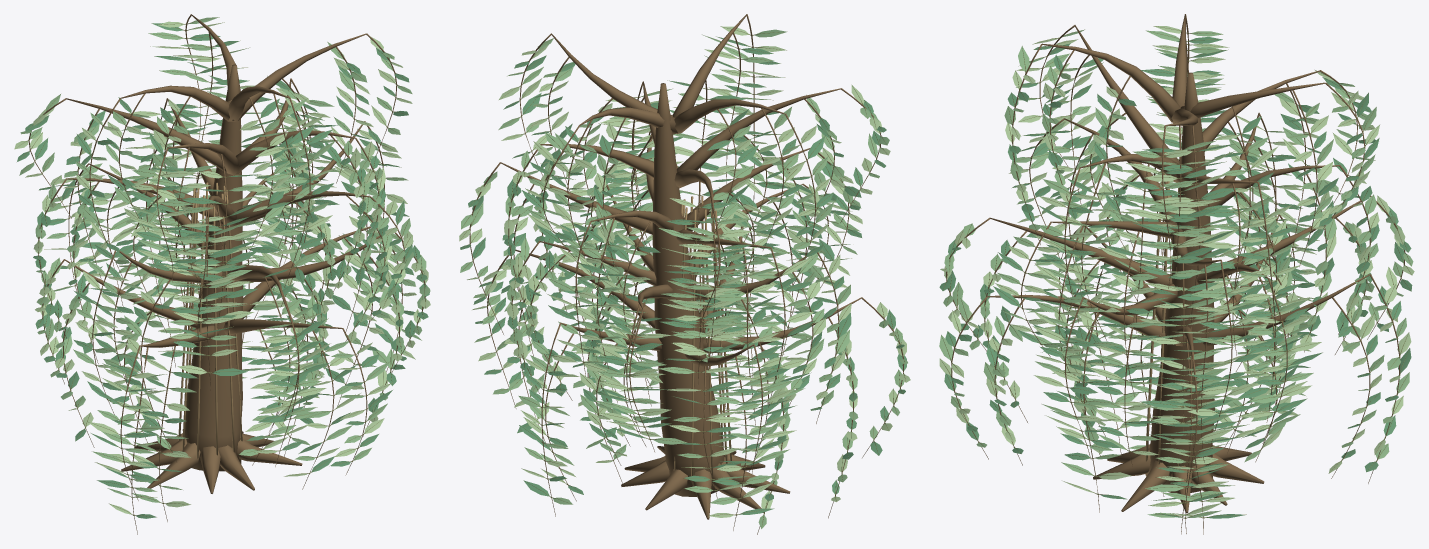
File: willow.glb
3 views of the same model, side by side, from view 1: azimuth 30°, elevation 25°; view 2: azimuth 150°, elevation 25°; view 3: azimuth 270°, elevation 25° (orthographic). The views are drawn at different scales.
Parts seen in each view (by area): view 1: Willow trunk branches and hanging twigs, Willow leaves 1, Willow leaves 2, Willow leaves 3, Willow petioles, Willow raised bark; view 2: Willow trunk branches and hanging twigs, Willow leaves 2, Willow leaves 3, Willow leaves 1, Willow petioles, Willow raised bark; view 3: Willow trunk branches and hanging twigs, Willow leaves 3, Willow leaves 2, Willow leaves 1, Willow petioles, Willow raised bark.
Part boxes in pixels (x1=…): Willow trunk branches and hanging twigs: x1=28, y1=14, x2=425, y2=534; Willow leaves 1: x1=17, y1=23, x2=429, y2=518; Willow leaves 2: x1=19, y1=17, x2=430, y2=502; Willow leaves 3: x1=14, y1=21, x2=430, y2=514; Willow petioles: x1=15, y1=17, x2=425, y2=517; Willow raised bark: x1=178, y1=182, x2=242, y2=458; Willow trunk branches and hanging twigs: x1=469, y1=14, x2=903, y2=534; Willow leaves 2: x1=460, y1=29, x2=907, y2=528; Willow leaves 3: x1=459, y1=26, x2=910, y2=517; Willow leaves 1: x1=460, y1=37, x2=906, y2=514; Willow petioles: x1=460, y1=26, x2=905, y2=527; Willow raised bark: x1=674, y1=196, x2=731, y2=478; Willow trunk branches and hanging twigs: x1=946, y1=14, x2=1405, y2=534; Willow leaves 3: x1=939, y1=26, x2=1414, y2=517; Willow leaves 2: x1=939, y1=30, x2=1413, y2=517; Willow leaves 1: x1=939, y1=37, x2=1412, y2=518; Willow petioles: x1=940, y1=26, x2=1411, y2=518; Willow raised bark: x1=1145, y1=181, x2=1212, y2=466.
Bounding box in the file's own units: 1.96 × 2.29 × 2.02.
